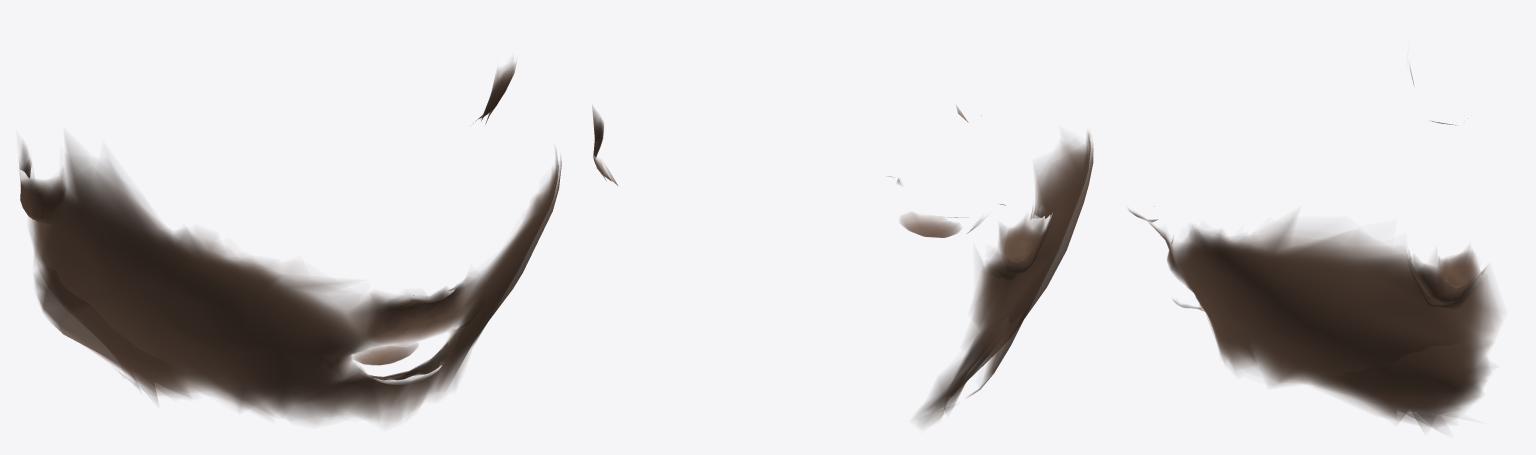
File: beard_stubble.glb
3 renders of one model, left to right at view 1: azimuth 30°, elevation 25°; view 2: azimuth 150°, elevation 25°; view 3: azimuth 270°, elevation 25°, orthographic. The views are drawn at different scales.
Visible parts, largest first — view 1: Beard_round, Beard_square, Beard_oval, Beard_heart; view 2: Beard_round, Beard_square, Beard_oval, Beard_heart; view 3: Beard_round, Beard_square, Beard_oval, Beard_heart.
Part boxes in pixels (x1,y1,x2,y2): Beard_round: (20, 71, 561, 411); Beard_square: (19, 62, 558, 421); Beard_oval: (20, 67, 557, 414); Beard_heart: (20, 66, 556, 422); Beard_round: (594, 115, 1093, 410); Beard_square: (593, 105, 1090, 411); Beard_oval: (593, 126, 1089, 409); Beard_heart: (593, 110, 1088, 423); Beard_round: (1134, 214, 1481, 428); Beard_square: (1139, 120, 1496, 423); Beard_oval: (1130, 211, 1485, 424); Beard_heart: (1131, 67, 1499, 427).
Size of the model in its own units: 0.2296 by 0.1474 by 0.1854.
